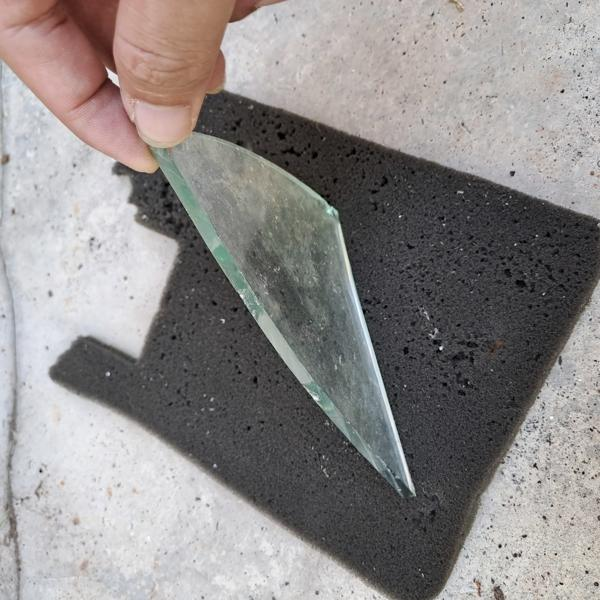Anorganik: (134, 120, 436, 519)
